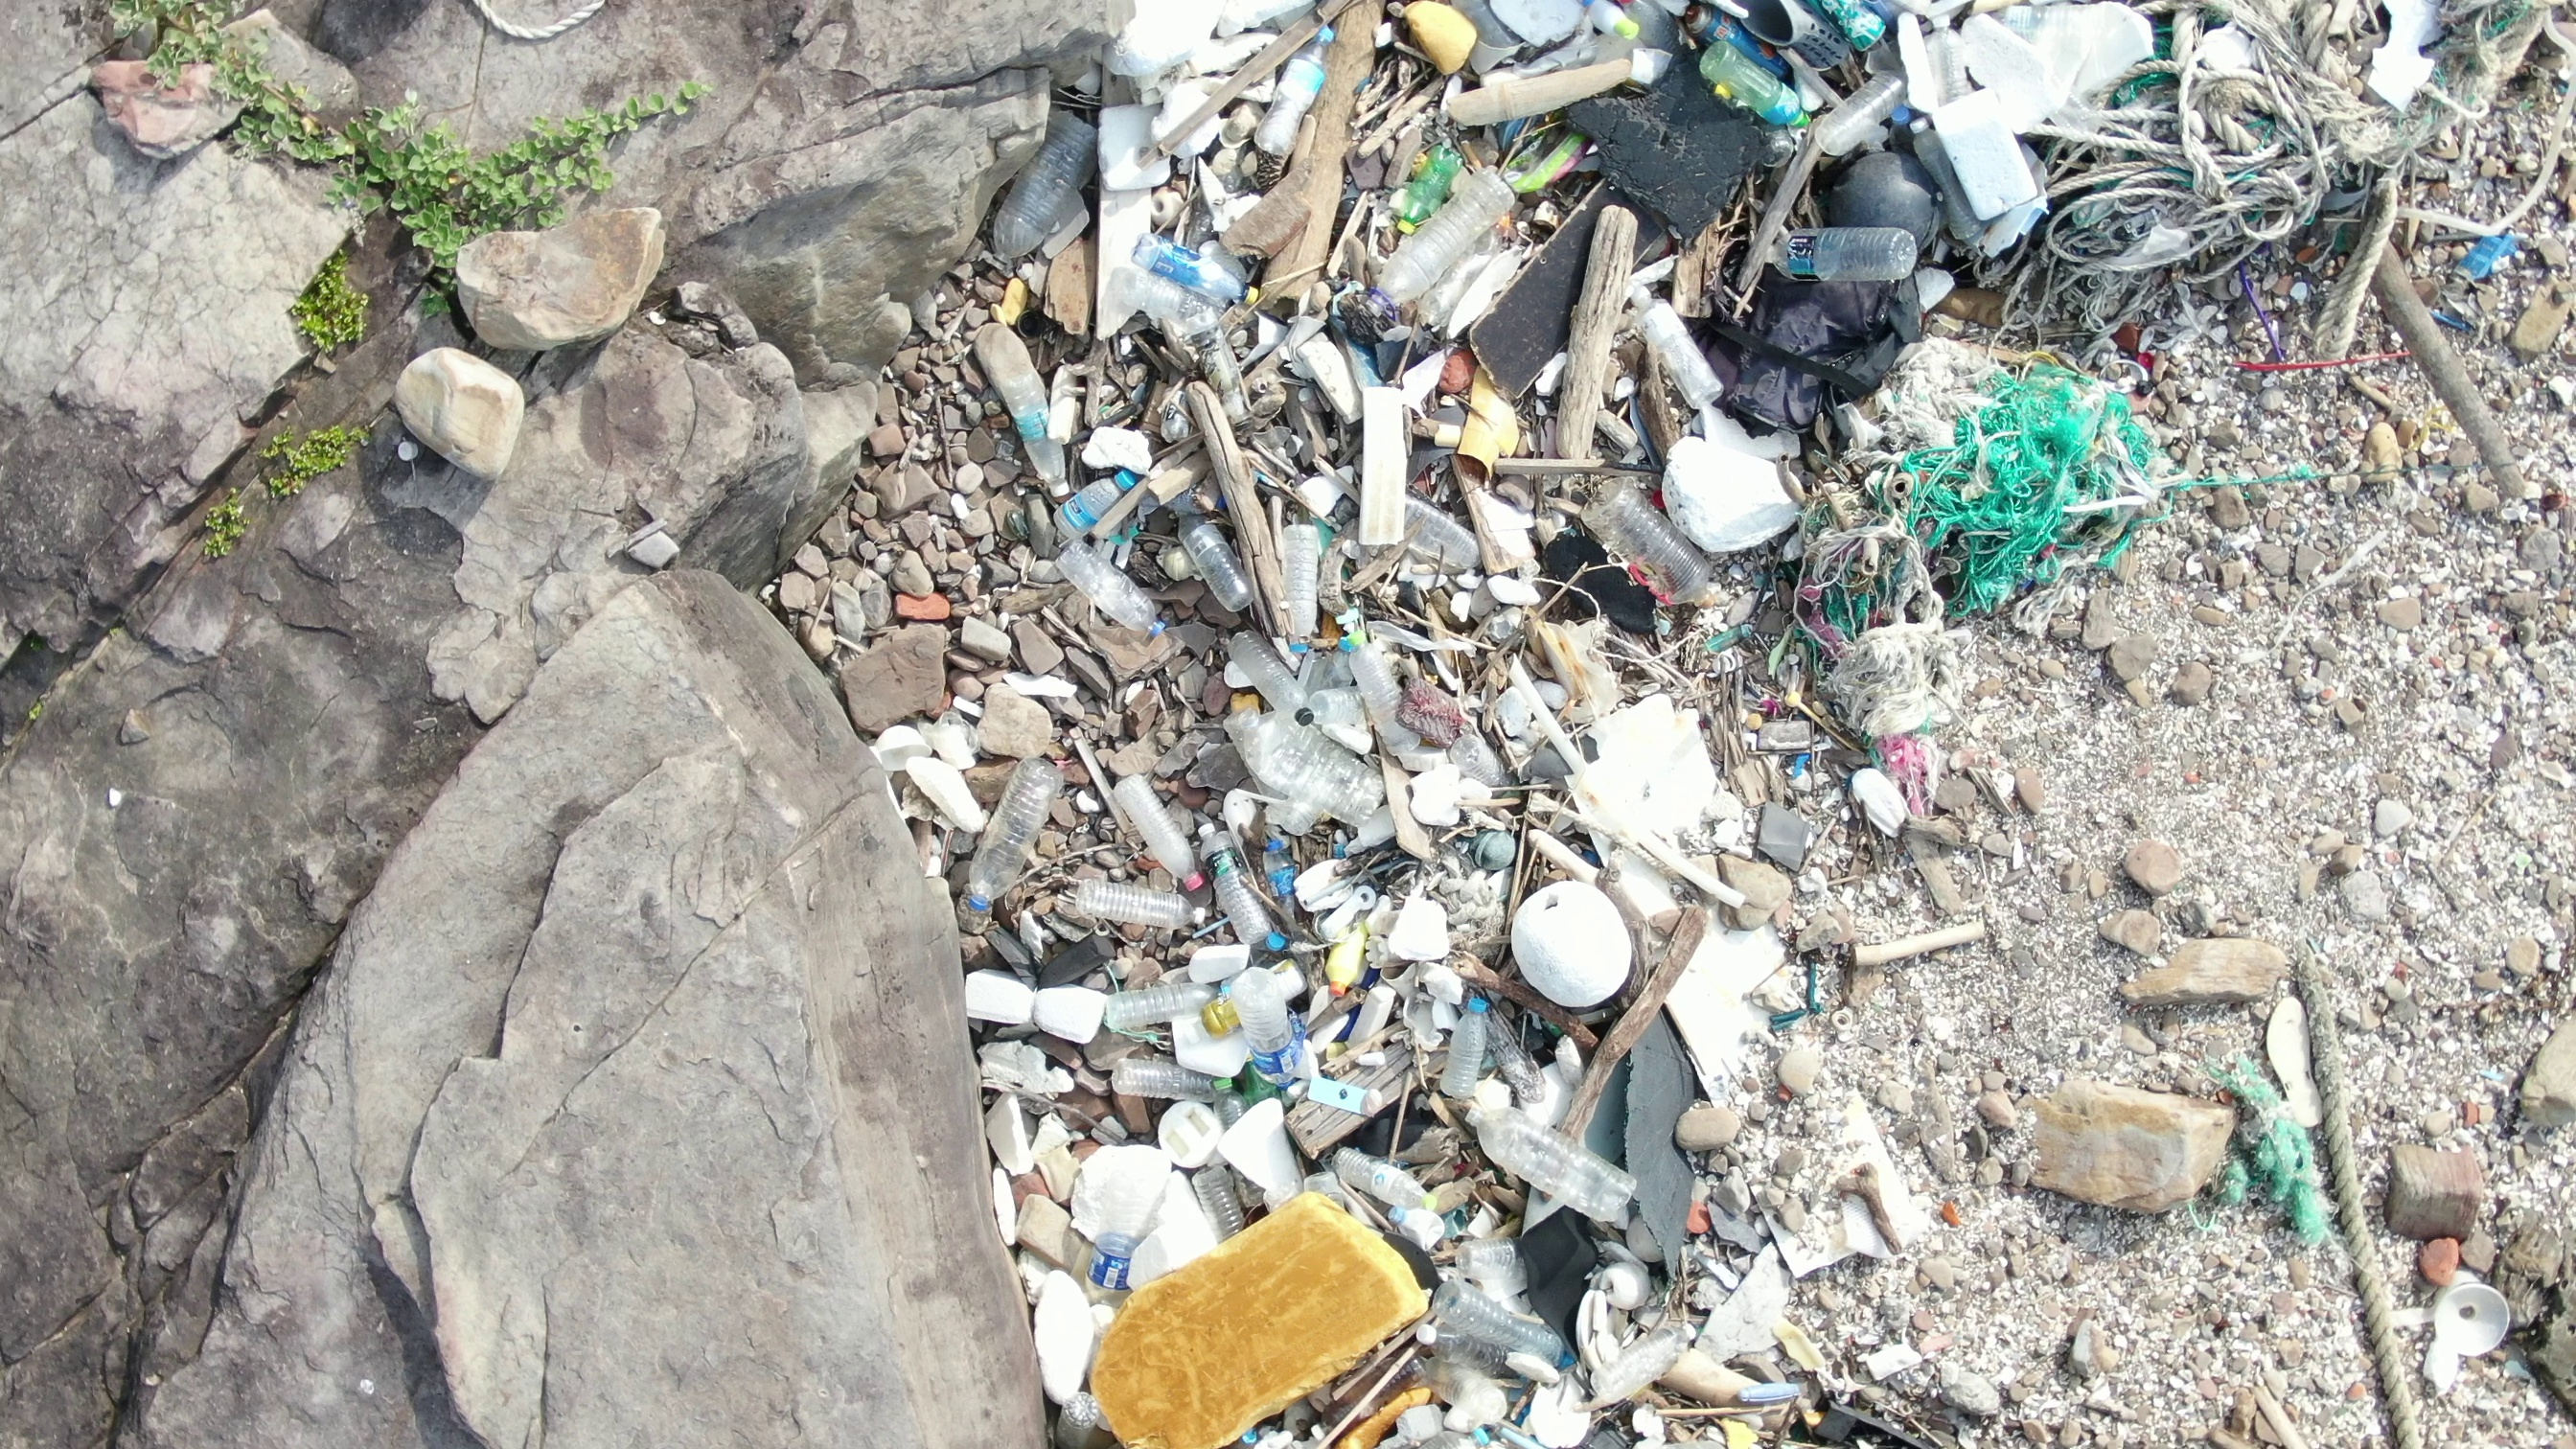bottle: (1454, 1099, 1649, 1228), (1369, 173, 1532, 318), (1583, 474, 1721, 614), (989, 111, 1111, 257), (1435, 1272, 1585, 1385), (1251, 14, 1348, 163), (1628, 280, 1734, 410), (973, 750, 1063, 897), (1053, 540, 1178, 642), (1764, 214, 1930, 287), (980, 345, 1063, 481), (1339, 628, 1412, 759), (1118, 773, 1198, 883), (1706, 37, 1808, 122), (1391, 483, 1488, 571), (1198, 810, 1263, 941), (1136, 235, 1238, 317), (1175, 515, 1256, 616), (1235, 968, 1300, 1088), (1233, 628, 1309, 727), (1277, 511, 1329, 656), (1396, 140, 1474, 235), (1083, 1226, 1136, 1362), (1435, 998, 1499, 1106), (1067, 876, 1194, 929), (1106, 1049, 1233, 1102), (1095, 978, 1223, 1028), (1329, 1139, 1424, 1205), (1185, 1161, 1258, 1246), (1053, 465, 1141, 533), (1813, 2, 1888, 60), (1585, 2, 1656, 53)
garbage: (989, 9, 2560, 626), (961, 621, 2028, 1449), (2226, 947, 2431, 1449), (2424, 1281, 2516, 1366), (458, 2, 637, 41)
